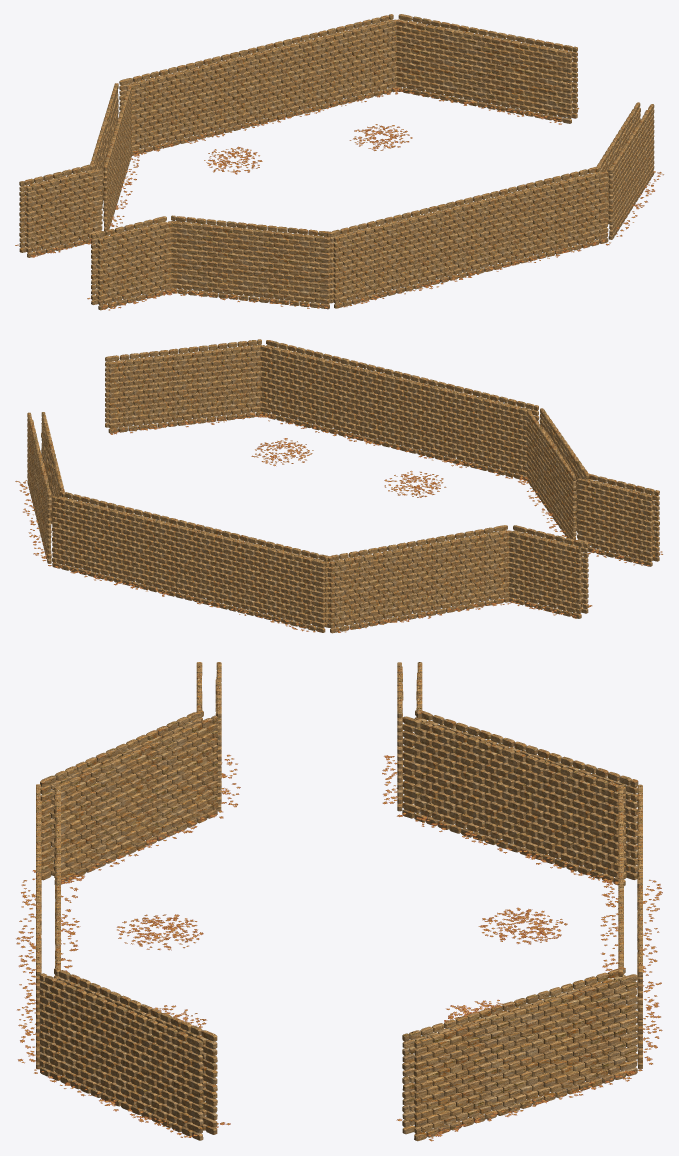
File: AutumnDetailRoom01.fbx
3 renders of one model, top to bottom at view 1: azimuth 30°, elevation 25°; view 2: azimuth 150°, elevation 25°; view 3: azimuth 270°, elevation 25°, orthographic. The views are drawn at different scales.
Visible parts, largest first — view 1: AutumnStonework_LOD0, AutumnLeafDrifts_LOD0; view 2: AutumnStonework_LOD0, AutumnLeafDrifts_LOD0; view 3: AutumnStonework_LOD0, AutumnLeafDrifts_LOD0.
Part boxes in pixels (x1=…): AutumnStonework_LOD0: x1=19, y1=14, x2=654, y2=310; AutumnLeafDrifts_LOD0: x1=15, y1=88, x2=663, y2=310; AutumnStonework_LOD0: x1=27, y1=339, x2=659, y2=633; AutumnLeafDrifts_LOD0: x1=15, y1=413, x2=662, y2=632; AutumnStonework_LOD0: x1=36, y1=662, x2=642, y2=1141; AutumnLeafDrifts_LOD0: x1=16, y1=754, x2=662, y2=1141.
Size of what is drawn, in the model's own units: 45.69 by 5.47 by 32.43.
